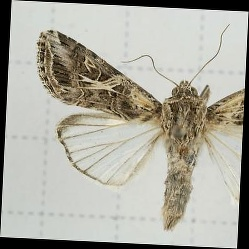Spodoptera litura: (32, 19, 243, 230)
